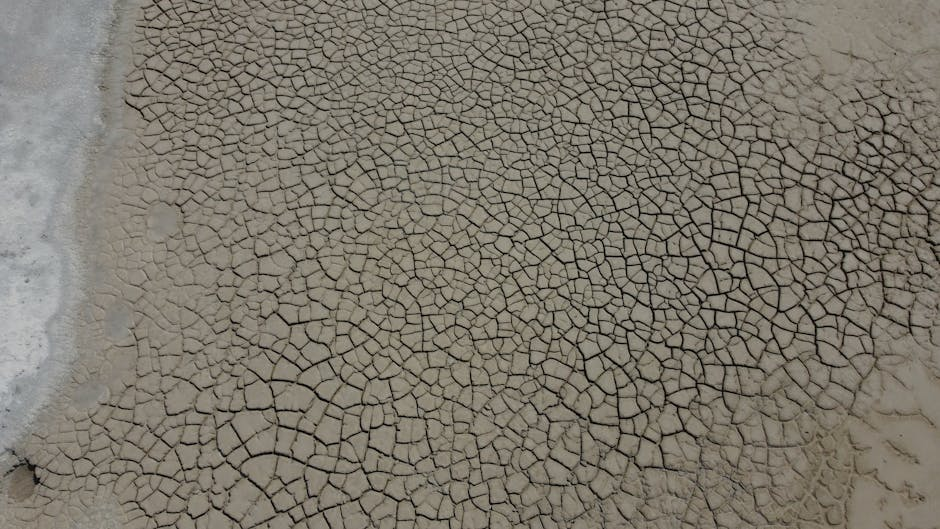网状裂隙: (204, 74, 719, 448)
